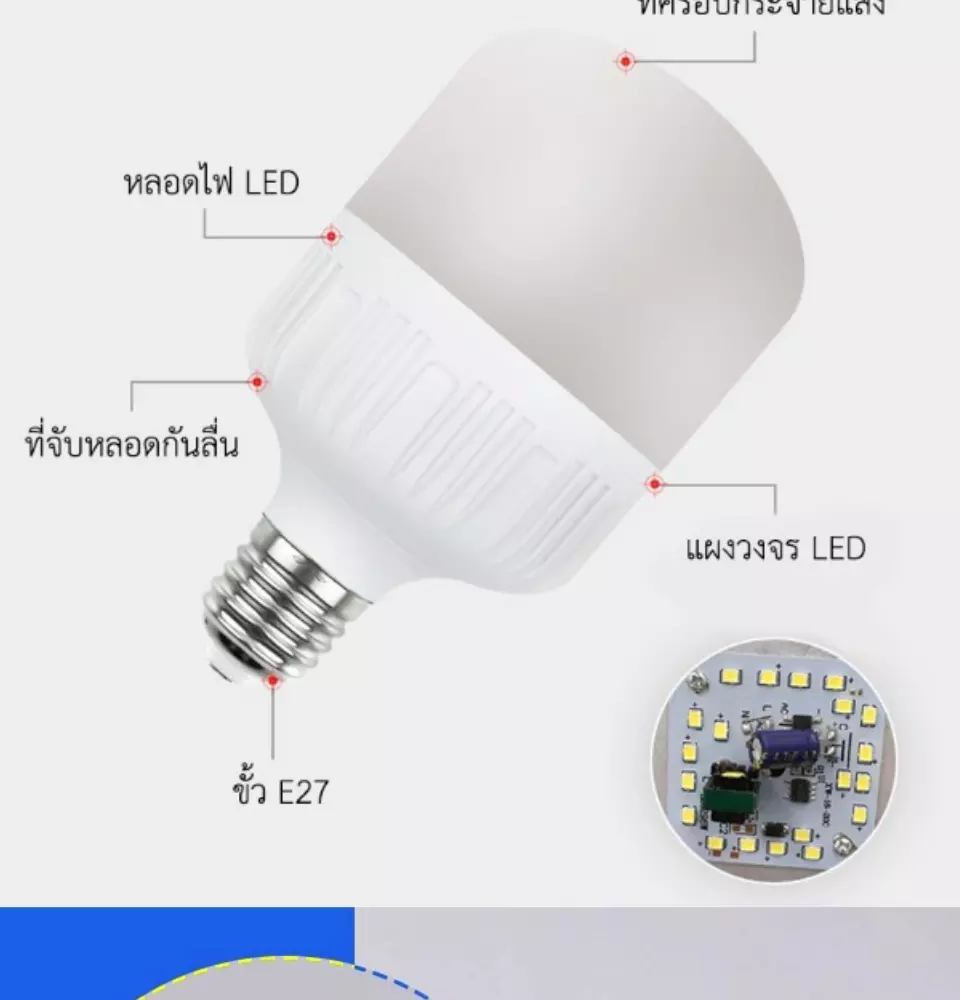Light_bulb: (187, 9, 814, 710)
